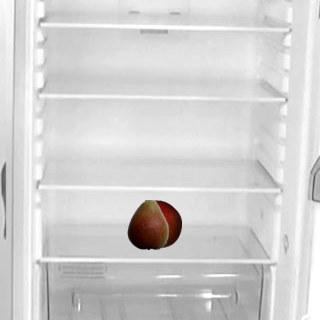Apple Braeburn: (131, 199, 181, 249)
Pear Forelle: (122, 199, 172, 249)
